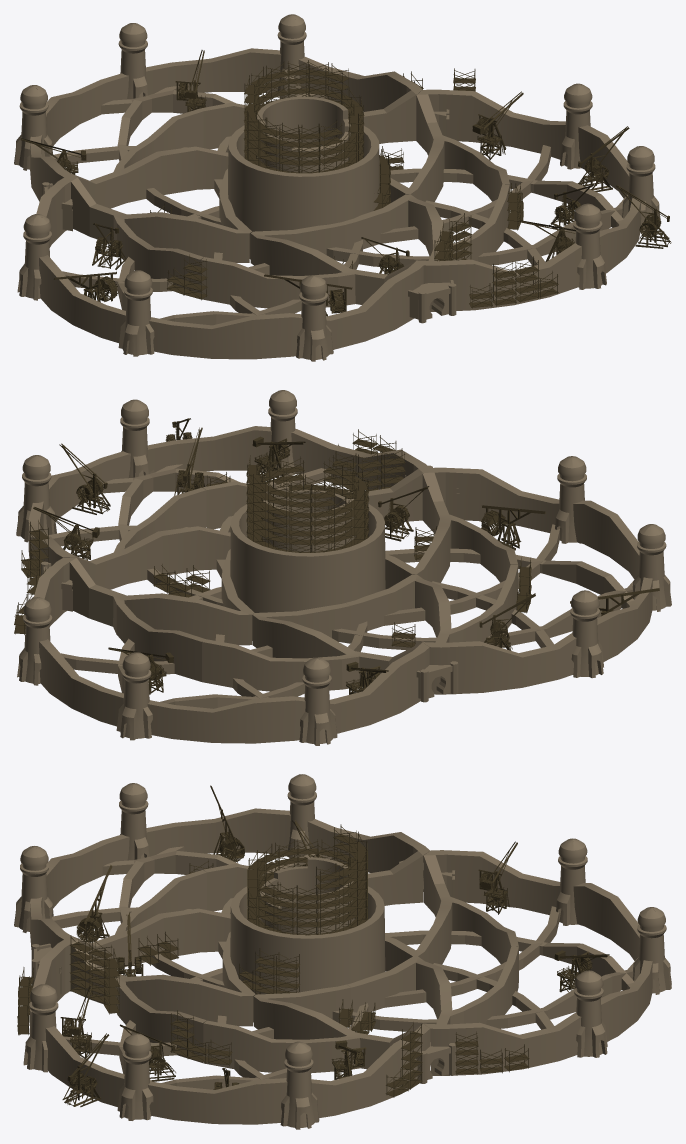
Rendered from hyperstructure3_init_LOW-transformed.glb.
3 views of the same model, one above another, from view 1: azimuth 30°, elevation 25°; view 2: azimuth 150°, elevation 25°; view 3: azimuth 270°, elevation 25° (orthographic). The views are drawn at different scales.
Visible parts, largest first — view 1: tower_initialized, tower_initialized_scaffolds; view 2: tower_initialized, tower_initialized_scaffolds; view 3: tower_initialized, tower_initialized_scaffolds.
Boxes of the visible parts, box(x1,y1,x2,y2) form: tower_initialized: box(14, 14, 660, 361); tower_initialized_scaffolds: box(20, 50, 671, 316); tower_initialized: box(16, 390, 671, 745); tower_initialized_scaffolds: box(14, 418, 659, 694); tower_initialized: box(14, 774, 671, 1129); tower_initialized_scaffolds: box(17, 785, 609, 1107).
Size of the model in its own units: 3.24 by 0.7406 by 3.11.
